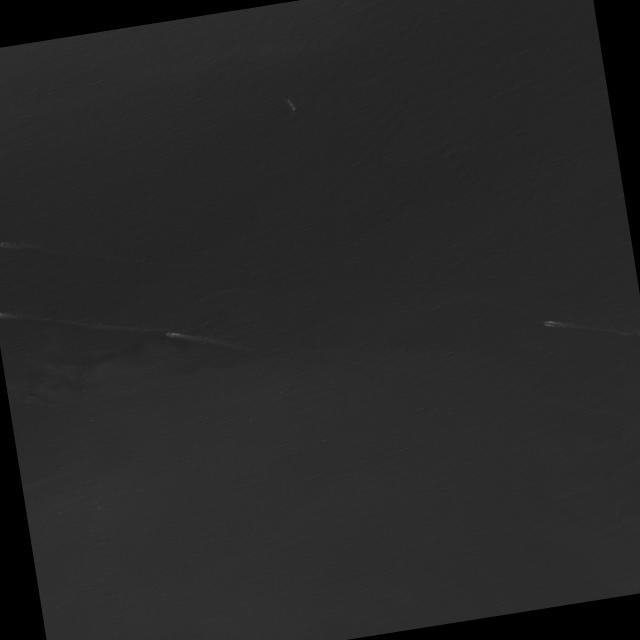ship: (284, 97, 297, 110), (543, 320, 560, 326), (165, 332, 175, 337), (0, 241, 7, 246), (172, 333, 177, 335)
